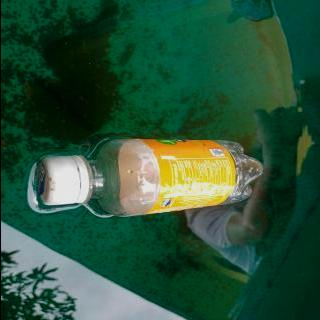bottle: (31, 137, 264, 217)
